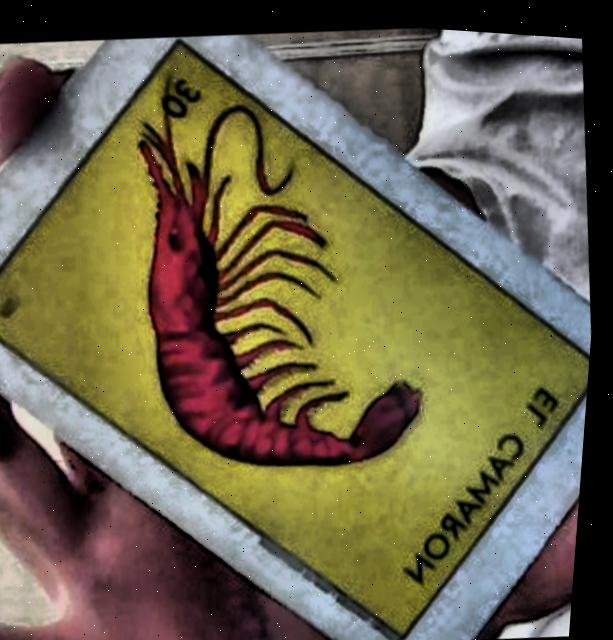El Camaron: (0, 50, 595, 635)
